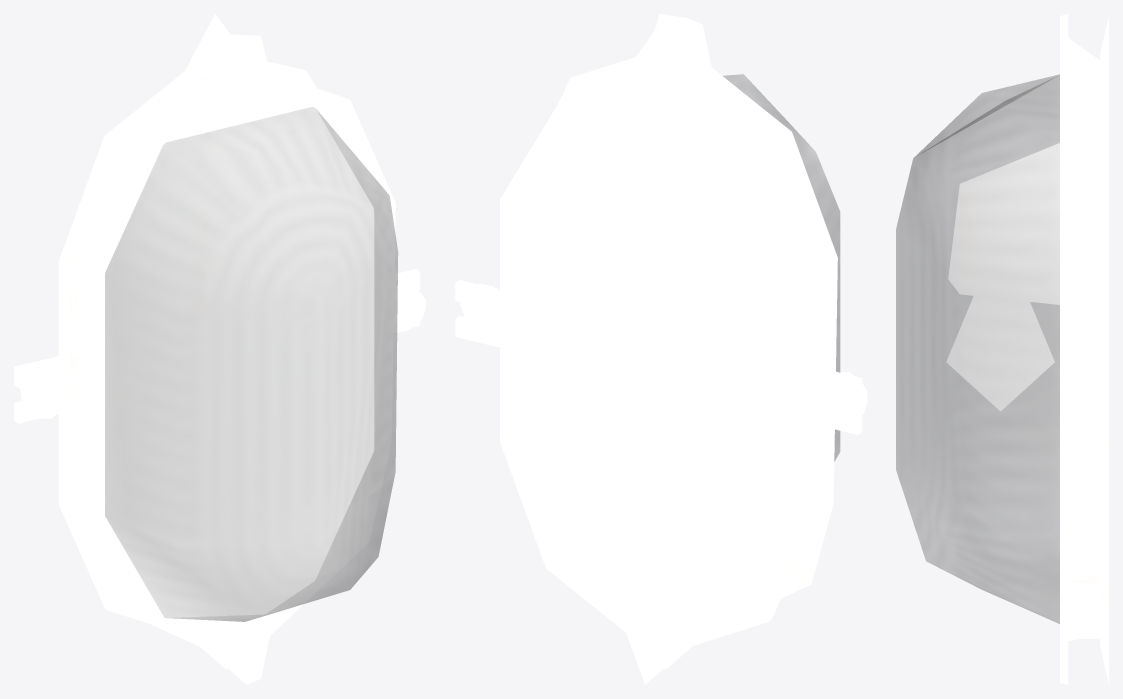
File: wall_light.glb
3 views of the same model, side by side, from view 1: azimuth 30°, elevation 25°; view 2: azimuth 150°, elevation 25°; view 3: azimuth 270°, elevation 25° (orthographic).
Visible parts, largest first — view 1: wall_light; view 2: wall_light; view 3: wall_light.
Part boxes in pixels (x1,y1,x2,y2): wall_light: (14,14,426,684); wall_light: (455,14,867,684); wall_light: (896,14,1108,684).
Size of the model in its own units: 0.2734 by 0.4283 by 0.1248.
Materials: 2 (2 with a texture image).
